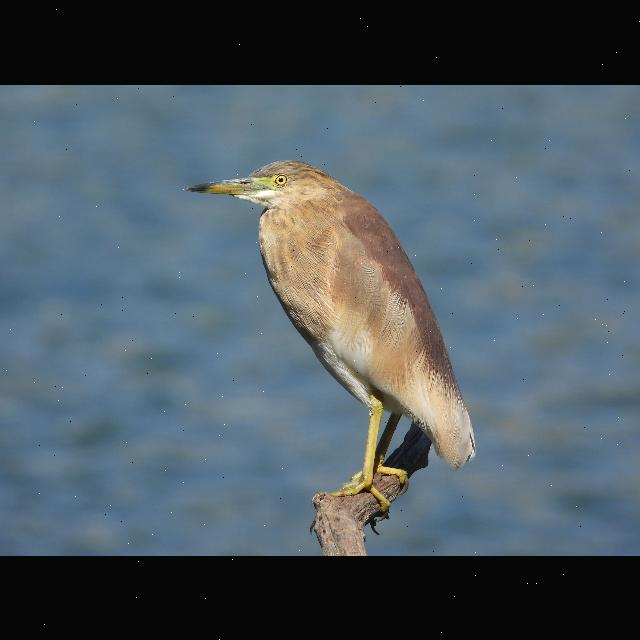heron: (180, 149, 478, 516)
